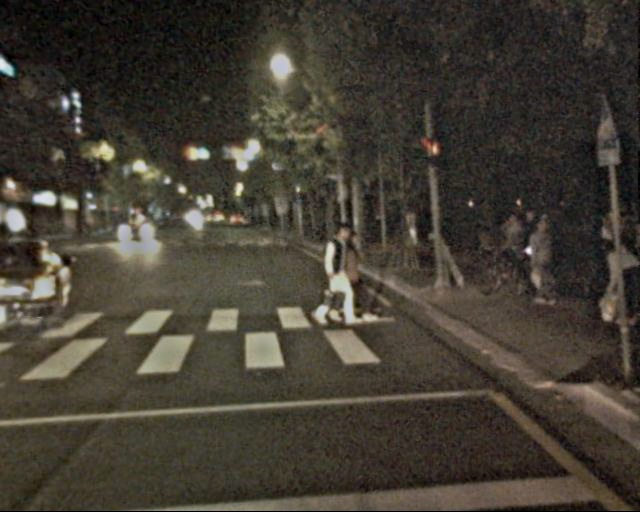person: (506, 209, 561, 295), (315, 225, 358, 329), (596, 231, 637, 330), (577, 208, 618, 307), (525, 219, 563, 311), (332, 230, 370, 322)
